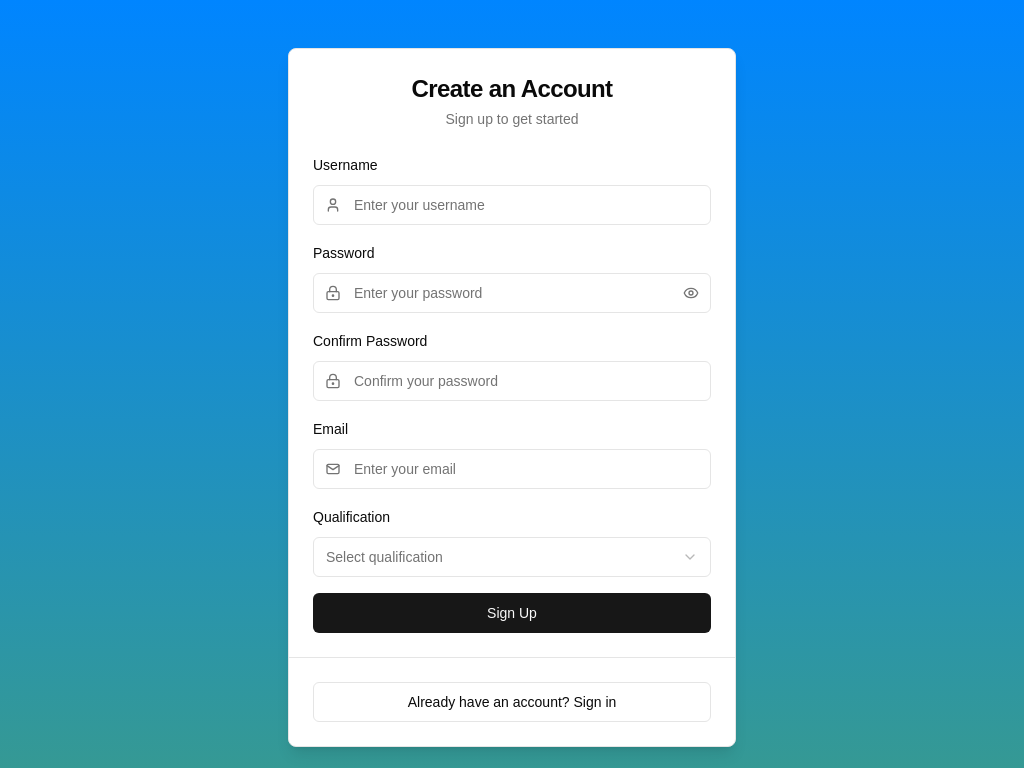
Scenario: gets all qualifications
This screenshot has width=1024, height=768.
Click the dropdown. click: (384,557)
box: [313,537,711,577]
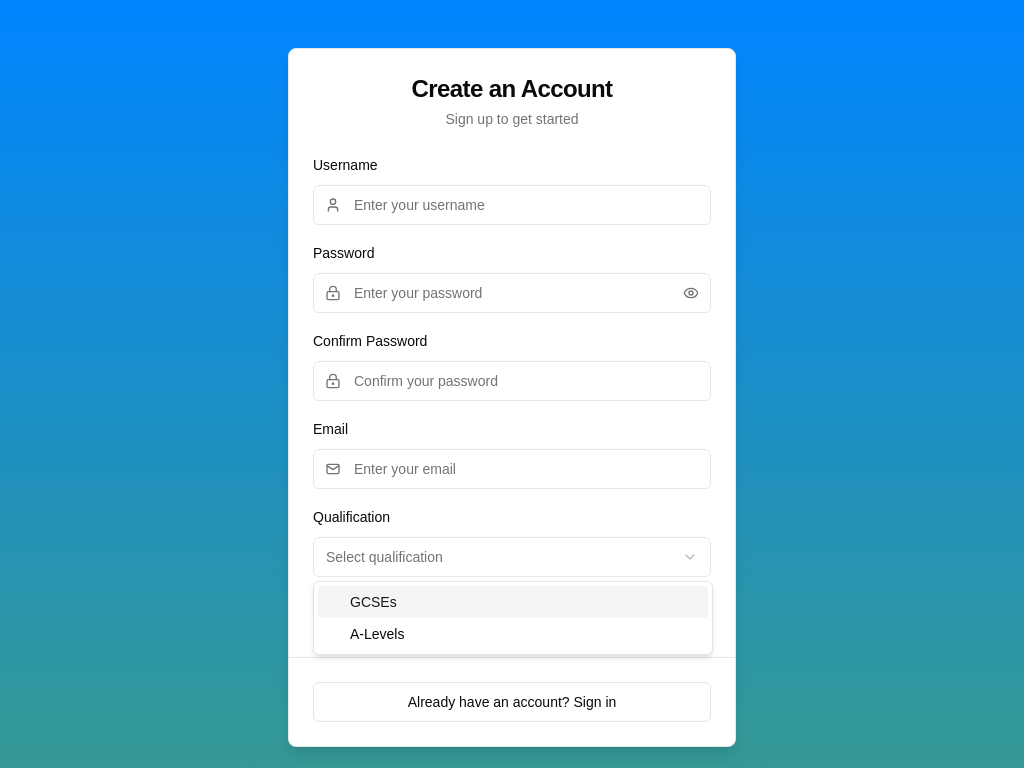
Check: the text "GCSEs" is shown, box [350,592,397,612]
Click the option "GCSEs". click: (373,602)
box: [318,586,708,618]
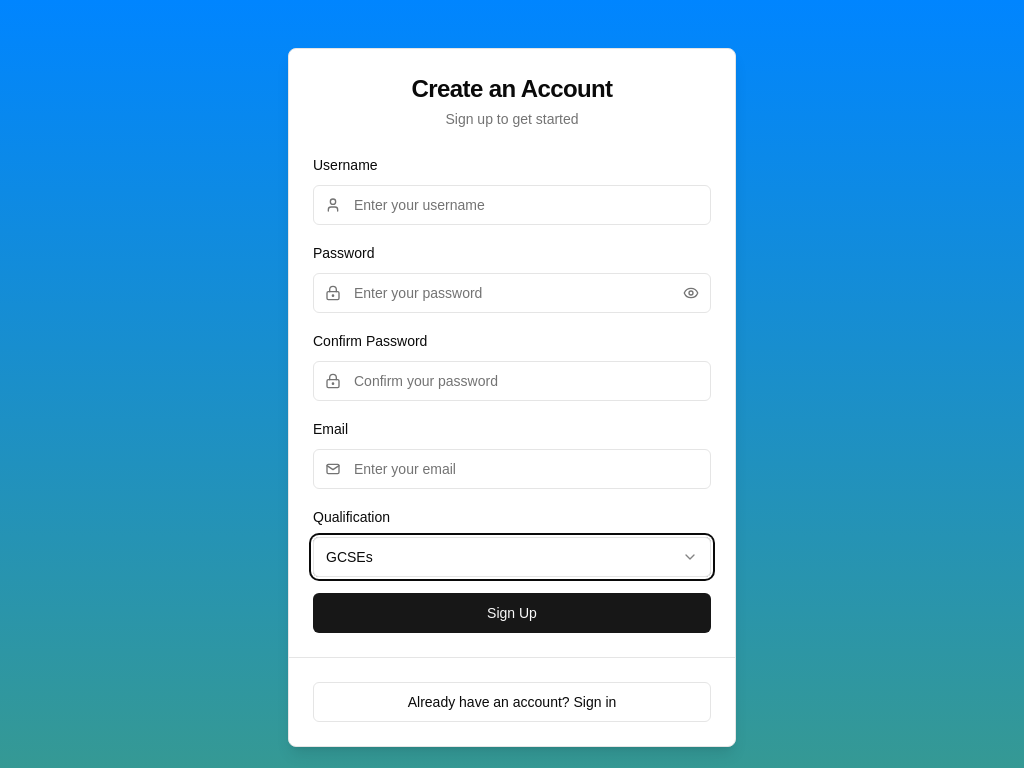
Check: the dropdown reads "GCSEs", box [313,537,711,577]
